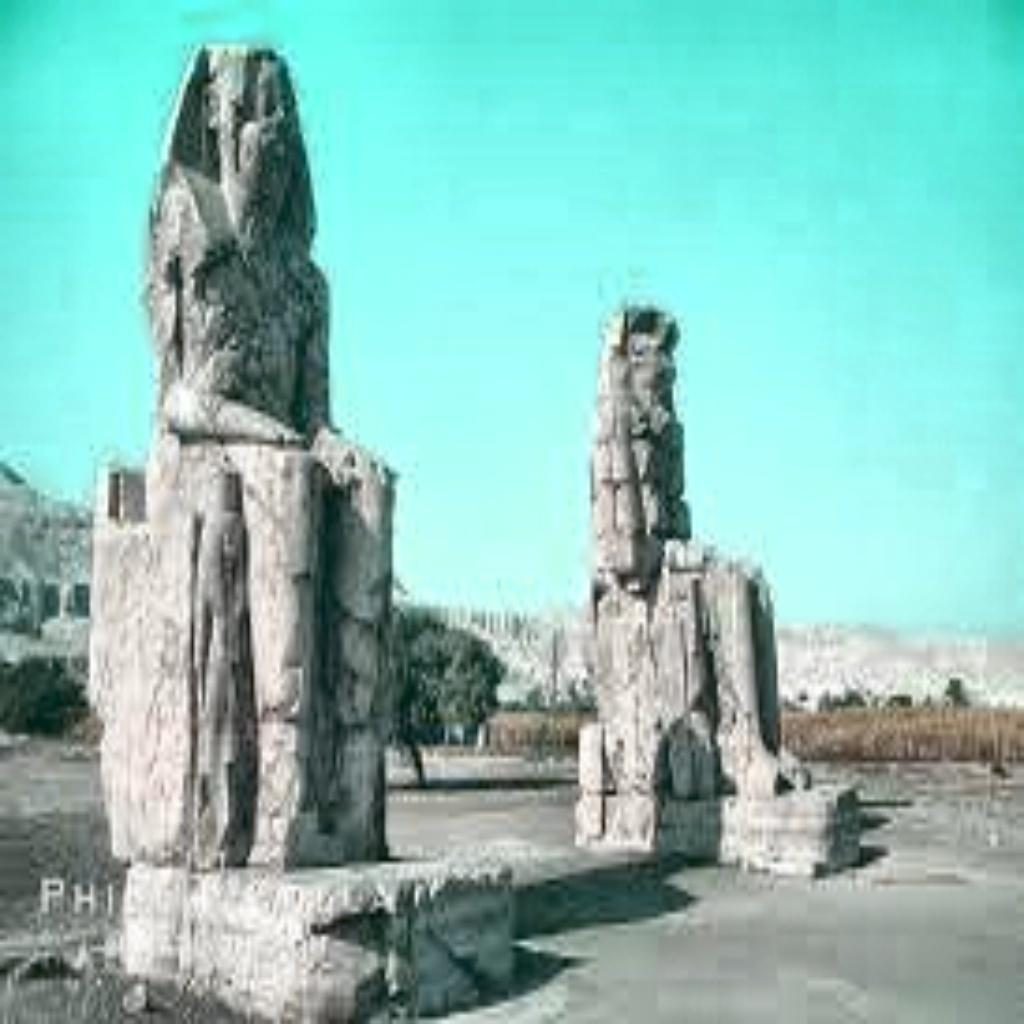Colossoi of Memnon: (82, 34, 408, 880), (572, 292, 862, 880)
